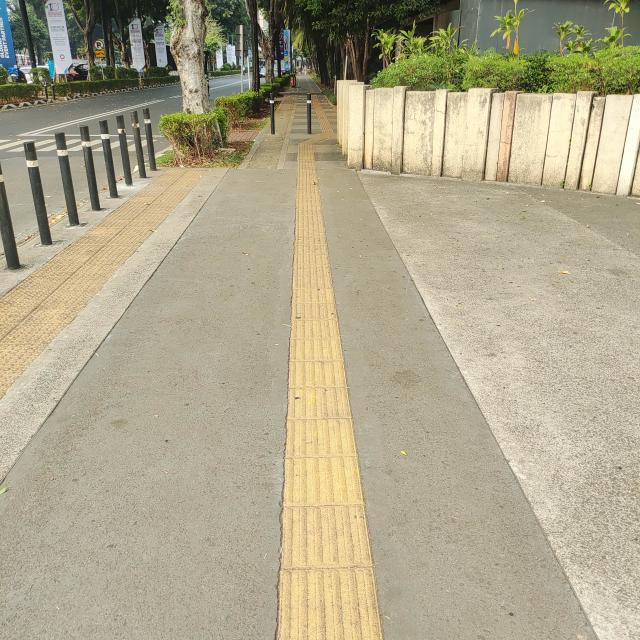lurus: (282, 181, 362, 640)
